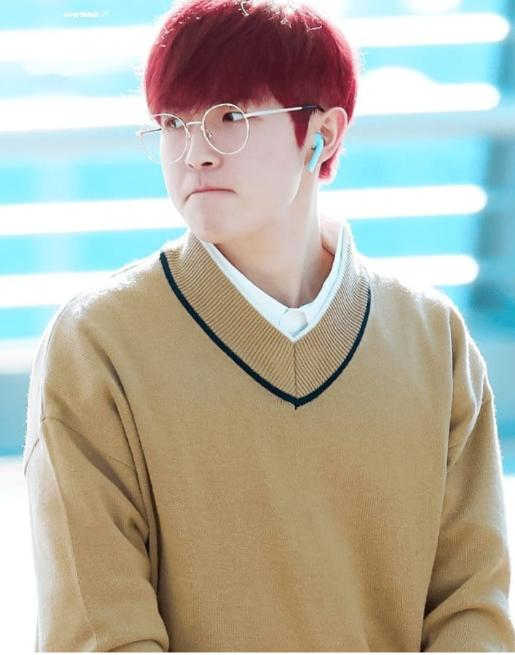earphone: (296, 132, 328, 173)
